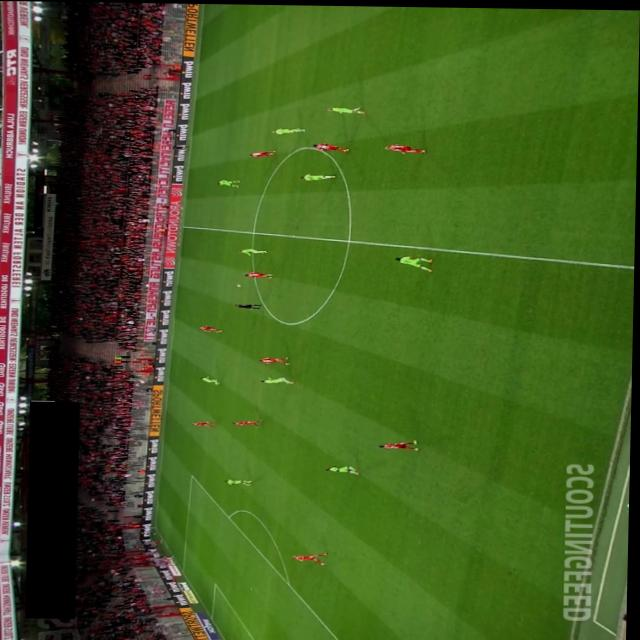goalkeeper: (222, 638, 246, 640)
player: (395, 253, 436, 271), (294, 550, 330, 564), (380, 438, 421, 449), (312, 140, 351, 151), (385, 142, 427, 152), (328, 104, 366, 114), (328, 463, 362, 473), (262, 374, 297, 383), (300, 172, 337, 180), (234, 418, 266, 426), (261, 355, 293, 363), (272, 126, 307, 133), (238, 247, 268, 255), (217, 178, 241, 186), (245, 270, 274, 276), (226, 478, 255, 484), (202, 374, 221, 383), (200, 324, 224, 331), (250, 149, 277, 155), (193, 420, 218, 426)
referee: (167, 142, 193, 150), (236, 302, 262, 308)
